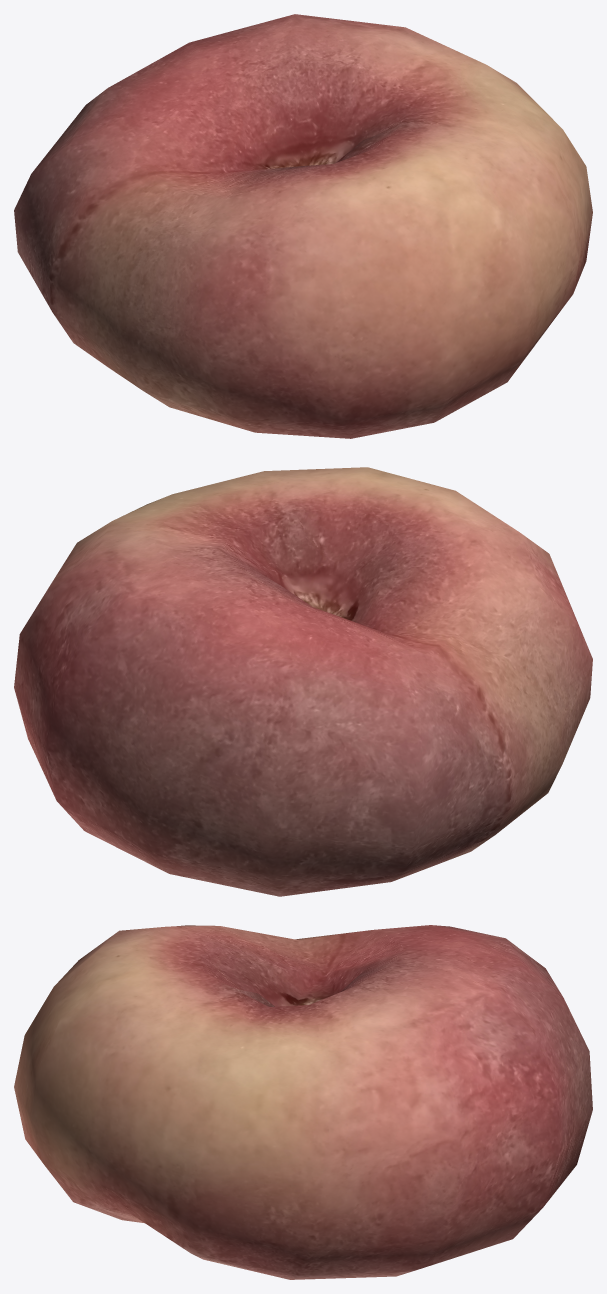
File: A12_Peach_low.fbx
The picture shows the model from 3 angles, top to bottom: view 1: azimuth 30°, elevation 25°; view 2: azimuth 150°, elevation 25°; view 3: azimuth 270°, elevation 25°; orthographic projection. The views are drawn at different scales.
Visible parts, largest first — view 1: A12_Peach_low; view 2: A12_Peach_low; view 3: A12_Peach_low.
Boxes of the visible parts, x1,y1,x2,y2 form: A12_Peach_low: [14, 14, 592, 438]; A12_Peach_low: [14, 467, 592, 896]; A12_Peach_low: [14, 925, 592, 1279].
Bounding box in the file's own units: 4.86 × 5.2 × 2.61.
1 material, 1 textured.
